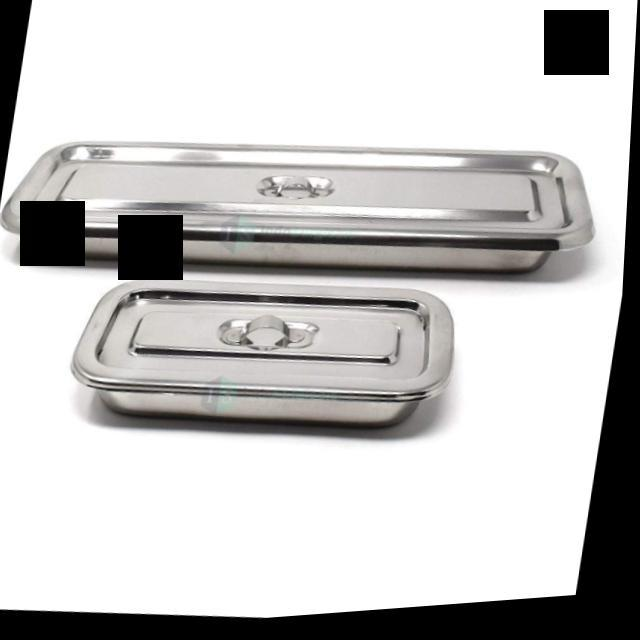Catheter Tray: (0, 81, 617, 332), (54, 255, 474, 476)
